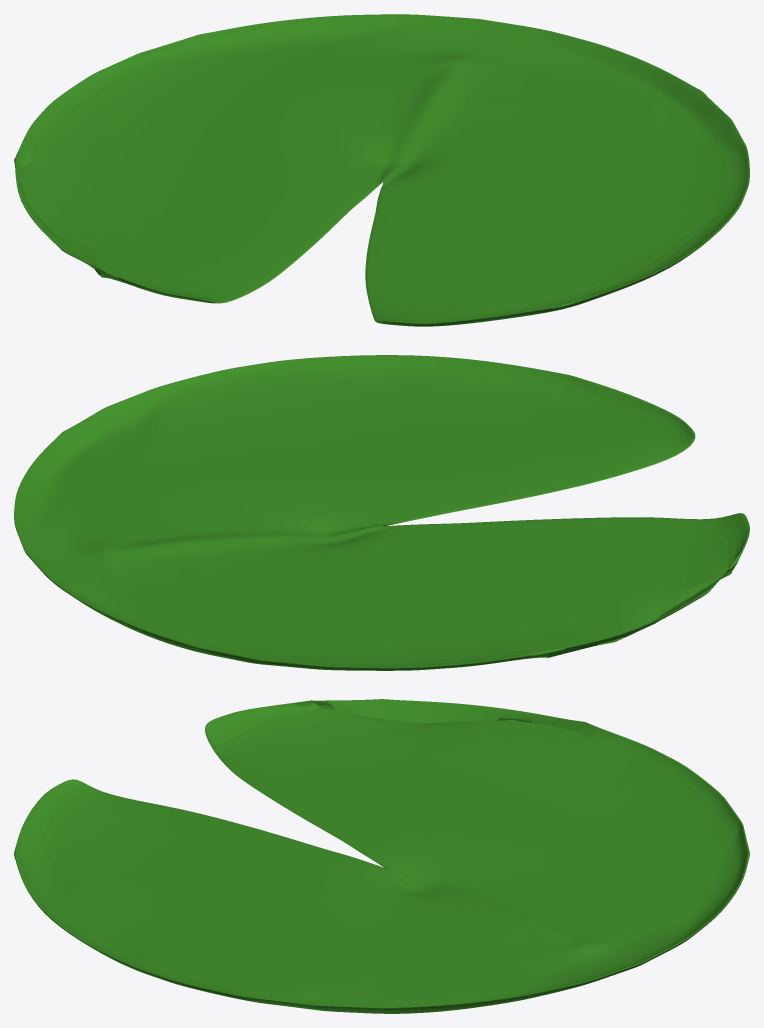
The model's file is LILYPAD.fbx.
3 views of the same model, one above another, from view 1: azimuth 30°, elevation 25°; view 2: azimuth 150°, elevation 25°; view 3: azimuth 270°, elevation 25° (orthographic).
Visible parts, largest first — view 1: Circle; view 2: Circle; view 3: Circle.
Part boxes in pixels (bbox=[...]): Circle: bbox=[14, 14, 749, 326]; Circle: bbox=[14, 355, 749, 670]; Circle: bbox=[14, 699, 749, 1013].
Size of the model in its own units: 209 by 7.69 by 208.
